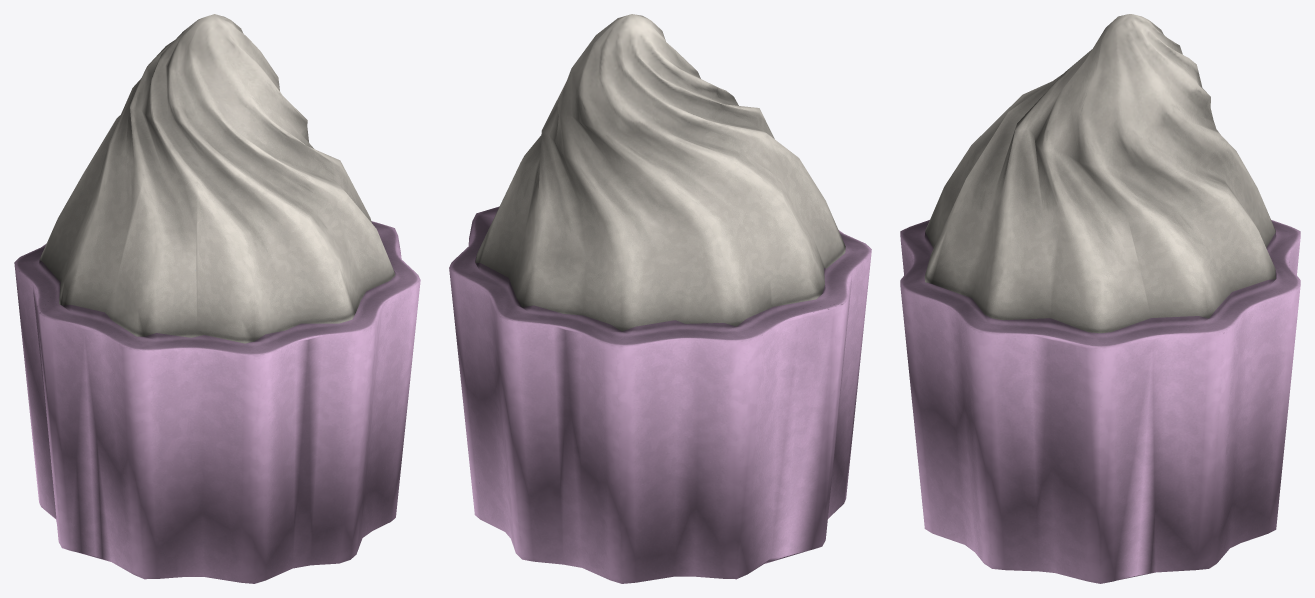
Rendered from s_cupcake_02.fbx.
The picture shows the model from 3 angles, left to right: view 1: azimuth 30°, elevation 25°; view 2: azimuth 150°, elevation 25°; view 3: azimuth 270°, elevation 25°; orthographic projection. The views are drawn at different scales.
Visible parts, largest first — view 1: s_cupcake_02; view 2: s_cupcake_02; view 3: s_cupcake_02.
Part boxes in pixels (x1=…): s_cupcake_02: x1=14, y1=14, x2=420, y2=583; s_cupcake_02: x1=449, y1=14, x2=871, y2=583; s_cupcake_02: x1=900, y1=14, x2=1300, y2=583.
Bounding box in the file's own units: 22.18 × 28.86 × 21.01.
